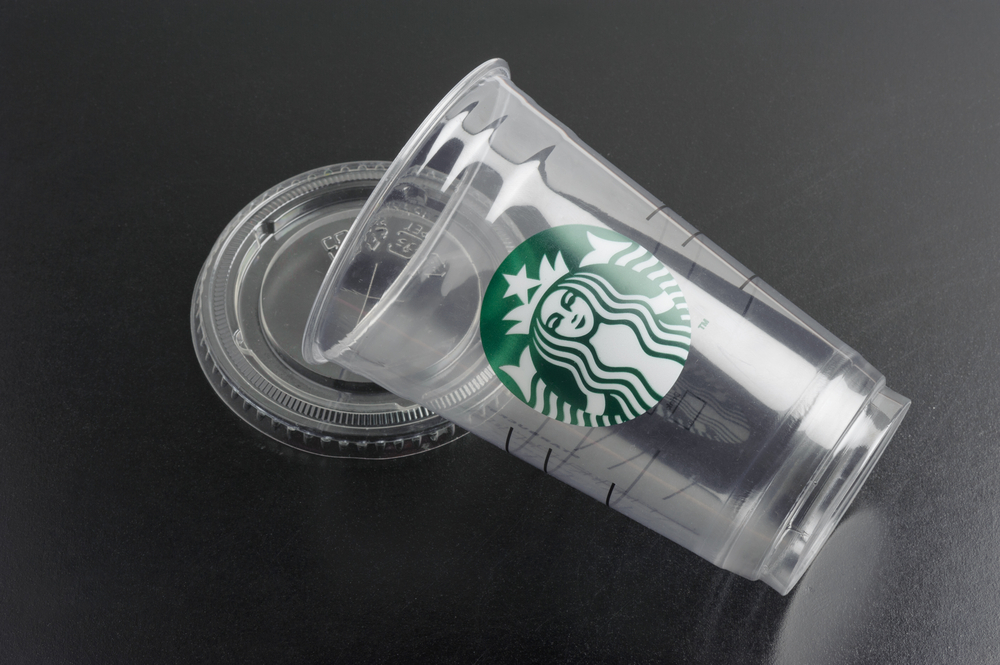plastic_glass: (296, 41, 933, 608)
